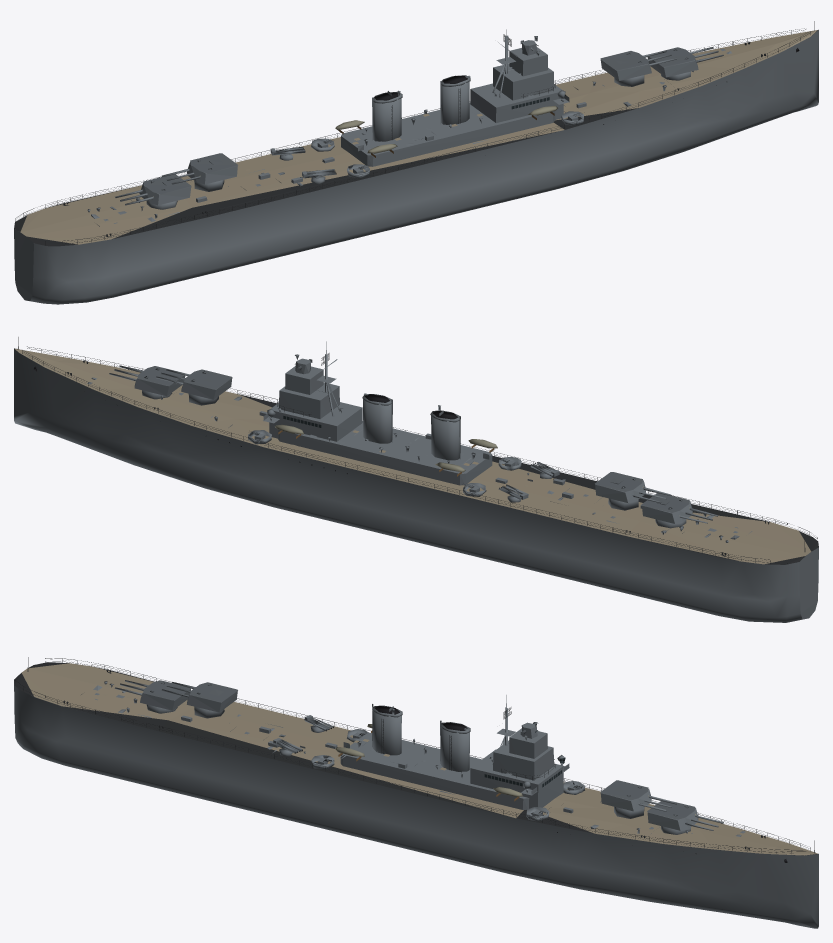
File: town_lod.glb
3 renders of one model, top to bottom at view 1: azimuth 30°, elevation 25°; view 2: azimuth 150°, elevation 25°; view 3: azimuth 330°, elevation 25°, orthographic.
Visible parts, largest first — view 1: town_lod; view 2: town_lod; view 3: town_lod.
Part boxes in pixels (bbox=[...]): town_lod: bbox=[14, 21, 818, 304]; town_lod: bbox=[14, 337, 818, 622]; town_lod: bbox=[14, 657, 818, 928].
Size of the model in its own units: 187 by 36 by 20.
